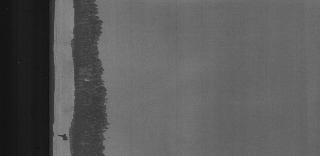oil spot: (66, 2, 120, 156)
